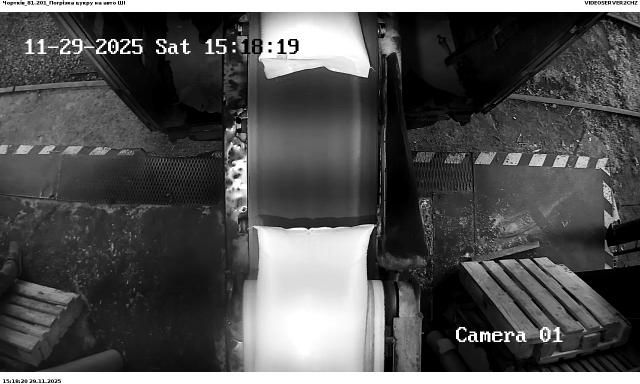bag: (251, 225, 378, 372), (259, 12, 369, 78)
